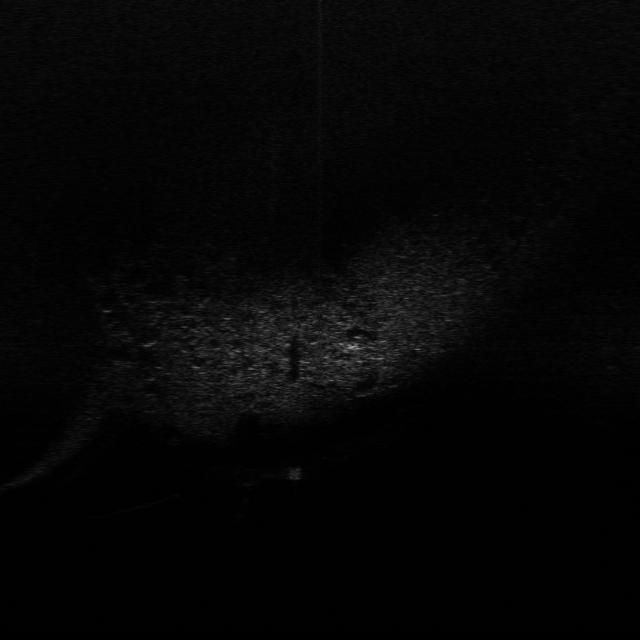cube: (230, 464, 266, 486)
cylinder: (282, 460, 306, 483)
